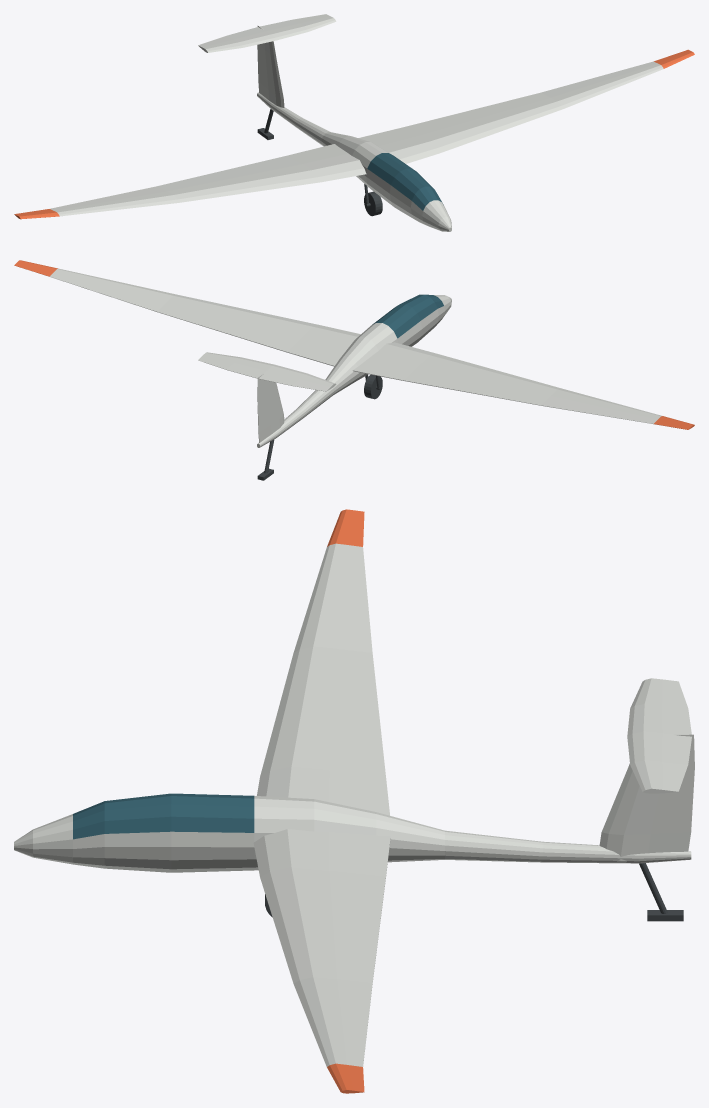
3 views of the same model, one above another, from view 1: azimuth 30°, elevation 25°; view 2: azimuth 150°, elevation 25°; view 3: azimuth 270°, elevation 25° (orthographic). The views are drawn at different scales.
Parts seen in each view (by area): view 1: LongTaperedWing_Right, LongTaperedWing_Left, Fuselage_ContinuousForebodyAndTailBoom, HorizontalTail_ContinuousHighT, VerticalFin_SweptTSupport; view 2: LongTaperedWing_Right, LongTaperedWing_Left, Fuselage_ContinuousForebodyAndTailBoom, HorizontalTail_ContinuousHighT, VerticalFin_SweptTSupport; view 3: Fuselage_ContinuousForebodyAndTailBoom, LongTaperedWing_Left, LongTaperedWing_Right, HorizontalTail_ContinuousHighT, VerticalFin_SweptTSupport.
Part boxes in pixels (box(x1,y1,x2,y2)): LongTaperedWing_Right: box(358, 49, 694, 163); LongTaperedWing_Left: box(14, 144, 366, 219); Fuselage_ContinuousForebodyAndTailBoom: box(257, 92, 451, 231); HorizontalTail_ContinuousHighT: box(198, 14, 336, 52); VerticalFin_SweptTSupport: box(257, 25, 284, 107); LongTaperedWing_Right: box(14, 260, 360, 366); LongTaperedWing_Left: box(352, 342, 694, 429); Fuselage_ContinuousForebodyAndTailBoom: box(257, 294, 451, 447); HorizontalTail_ContinuousHighT: box(198, 352, 336, 391); VerticalFin_SweptTSupport: box(257, 373, 284, 442); Fuselage_ContinuousForebodyAndTailBoom: box(14, 793, 691, 872); LongTaperedWing_Left: box(257, 509, 389, 815); LongTaperedWing_Right: box(253, 829, 390, 1093); HorizontalTail_ContinuousHighT: box(627, 678, 691, 793); VerticalFin_SweptTSupport: box(599, 734, 694, 861).
Size of the model in its own units: 14.4 by 2.16 by 7.14.
